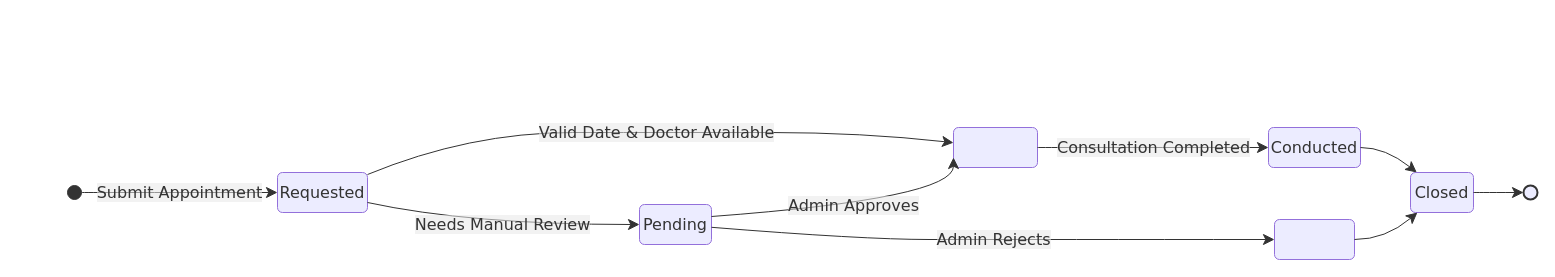
The diagram is 1555 pixels wide and 277 high, and some of its shapes have lost their labels. The centre of each missing label's shape, as x and y in pixels:
"Approved" belongs at (x=995, y=147).
"Rejected" belongs at (x=1314, y=239).
